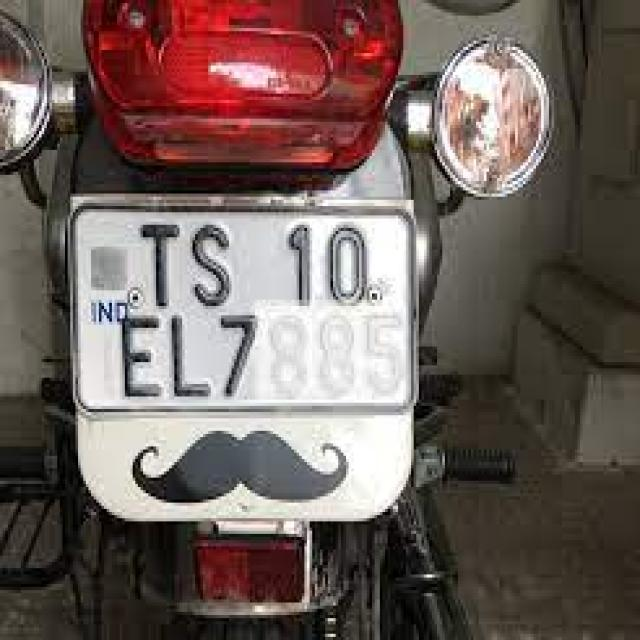license_plate: (68, 201, 412, 408)
